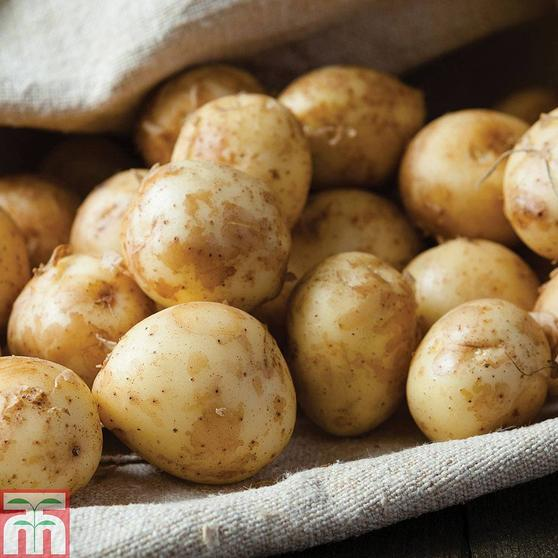potato: (92, 293, 312, 490), (403, 293, 557, 465), (129, 163, 296, 317), (292, 251, 418, 445), (8, 247, 153, 392), (278, 62, 430, 193), (2, 350, 106, 512), (503, 100, 558, 265)
